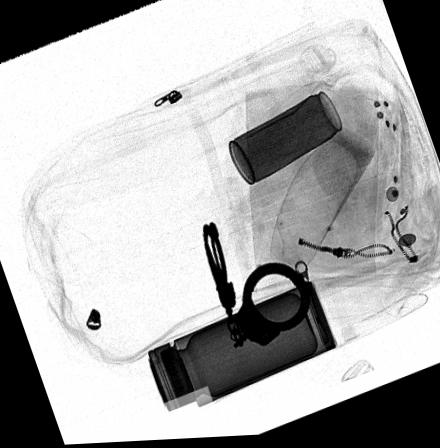HandCuffs: (203, 223, 315, 351)
